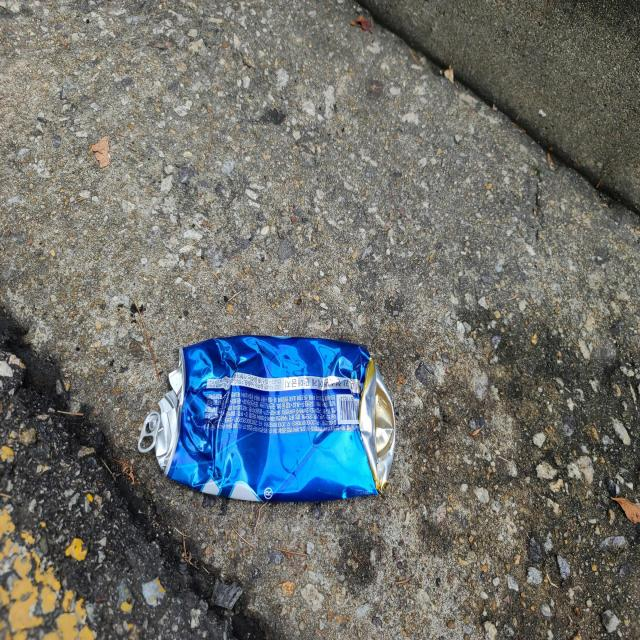can: (137, 336, 396, 503)
